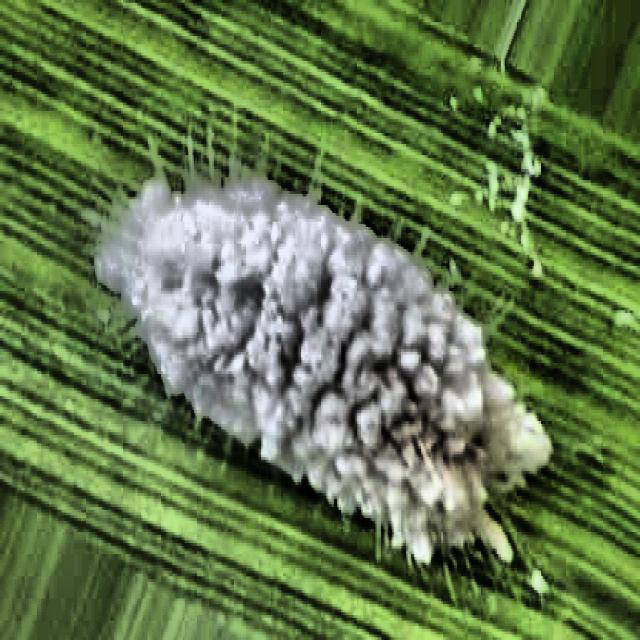Mealy-bug: (54, 94, 556, 604)
